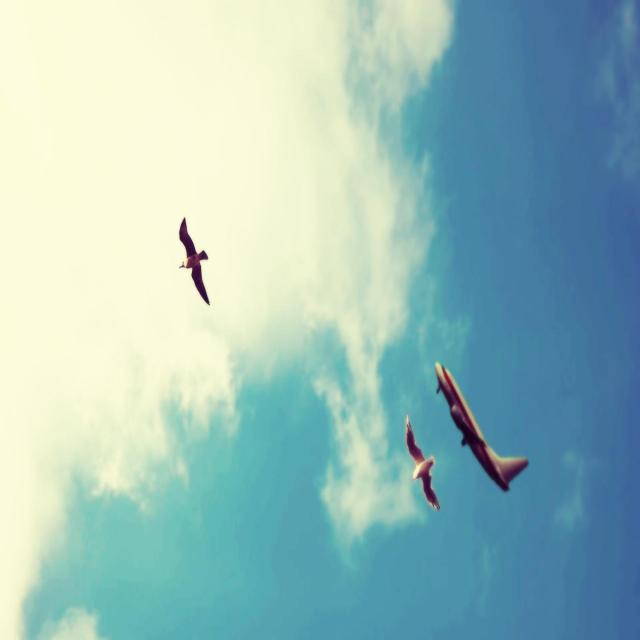airplane: (434, 360, 529, 492)
